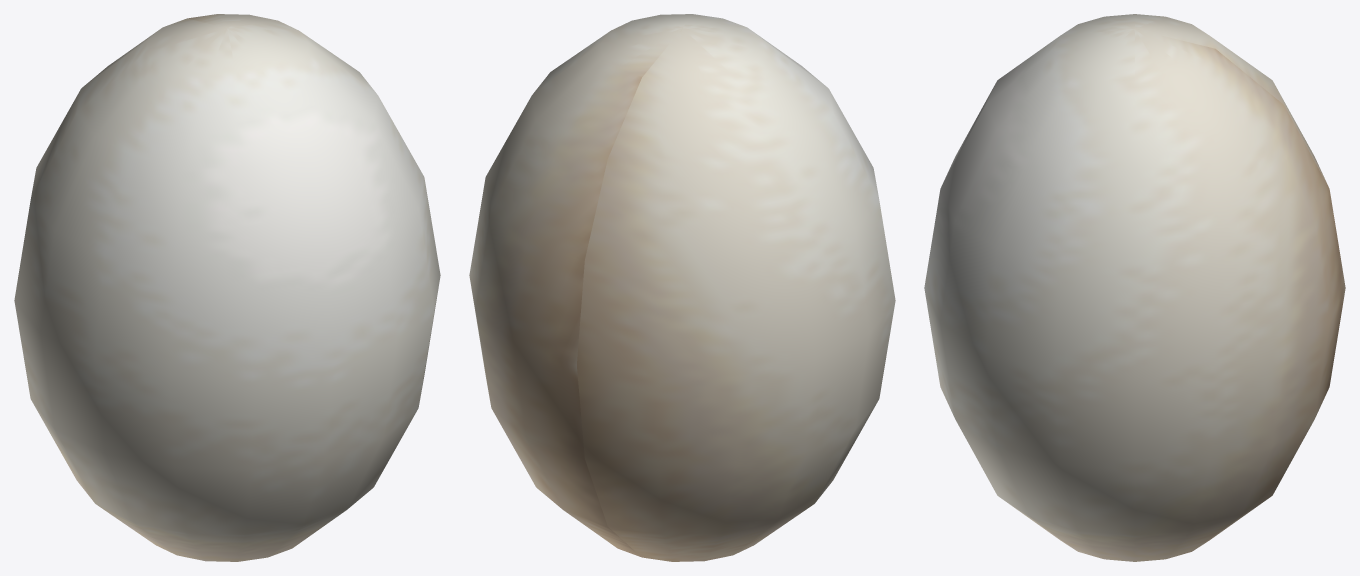
Rendered from whiteEggModel.FBX.
3 views of the same model, side by side, from view 1: azimuth 30°, elevation 25°; view 2: azimuth 150°, elevation 25°; view 3: azimuth 270°, elevation 25° (orthographic).
Visible parts, largest first — view 1: Sphere01; view 2: Sphere01; view 3: Sphere01.
Boxes of the visible parts, x1,y1,x2,y2 form: Sphere01: (14, 14, 440, 561); Sphere01: (469, 14, 895, 561); Sphere01: (924, 14, 1345, 561).
Size of the model in its own units: 24.6 by 32.67 by 24.09.
Materials: 1 (1 with a texture image).
